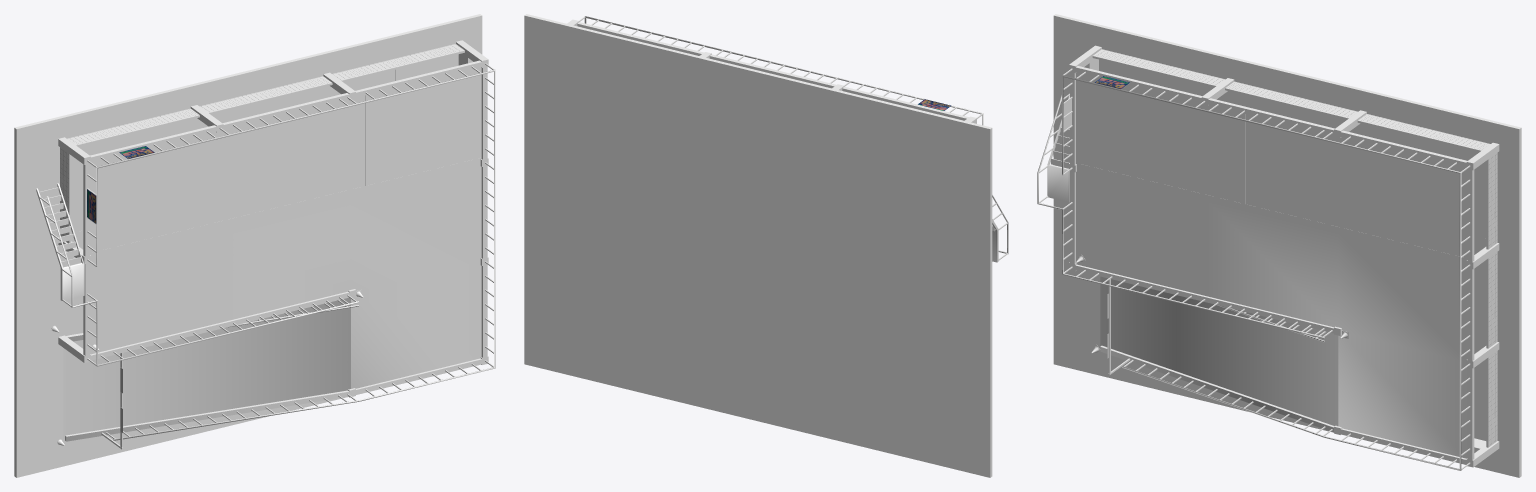
Rendered from parking.fbx.
The picture shows the model from 3 angles, left to right: view 1: azimuth 30°, elevation 25°; view 2: azimuth 150°, elevation 25°; view 3: azimuth 330°, elevation 25°; orthographic projection.
Parts seen in each view (by area): view 1: object; view 2: object; view 3: object.
Boxes of the visible parts, x1=… form: object: x1=14, y1=14, x2=495, y2=477; object: x1=524, y1=14, x2=1008, y2=477; object: x1=1037, y1=14, x2=1521, y2=477.
Size of the model in its own units: 24.6 by 17.6 by 3.48.
